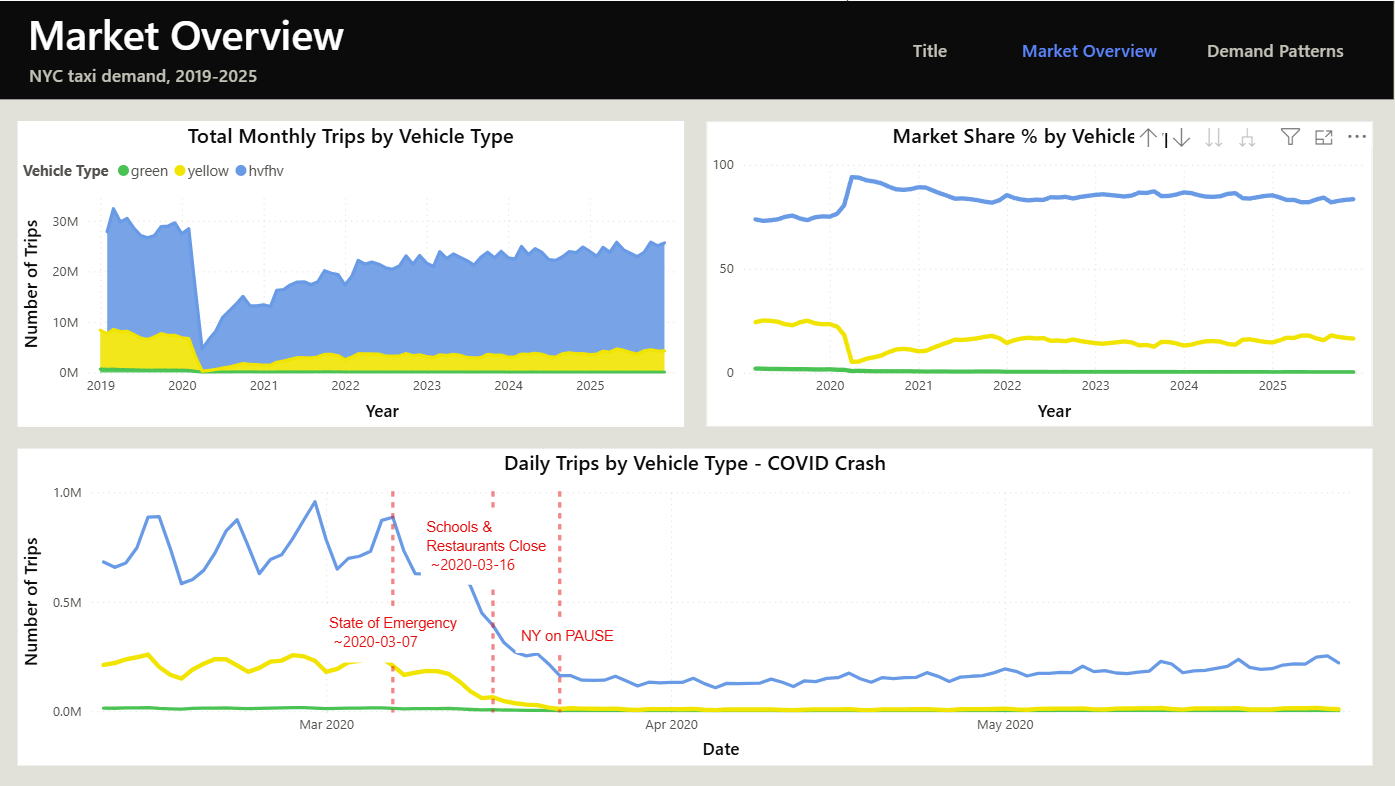

Layout of this report page (visuals, bound fields, positions):
{"tool":"powerbi","page":{"name":"Market Overview","canvas":[1280,720],"ordinal":1},"visuals":[{"type":"stackedAreaChart","title":"Total Monthly Trips by Vehicle Type","fields":{"Y":["Sum(hourly_demand.trip_count)"],"Series":["hourly_demand.vehicle_type"],"Category":["hourly_demand.MonthStart.Variation.Date Hierarchy.Year","hourly_demand.MonthStart.Variation.Date Hierarchy.Month"]},"box":[20,110,610,280],"z":0},{"type":"lineChart","title":"Market Share % by Vehicle Type","fields":{"Y":["hourly_demand.Market Share %"],"Series":["hourly_demand.vehicle_type"],"Category":["hourly_demand.MonthStart.Variation.Date Hierarchy.Year","hourly_demand.MonthStart.Variation.Date Hierarchy.Month"]},"box":[650,110,610,280],"z":1000},{"type":"lineChart","title":"Daily Trips by Vehicle Type - COVID Crash","fields":{"Series":["hourly_demand.vehicle_type"],"Y":["Sum(hourly_demand.trip_count)"],"Category":["hourly_demand.DayStart.Variation.Date Hierarchy.Year","hourly_demand.DayStart.Variation.Date Hierarchy.Month","hourly_demand.DayStart.Variation.Date Hierarchy.Day"]},"box":[20,410,1240,290],"z":2000},{"type":"shape","box":[0,0,1279.5,90],"z":3000},{"type":"textbox","box":[24,0,306.8,68.9],"z":4000},{"type":"textbox","box":[297.6,542.5,130.7,51.6],"z":5000},{"type":"textbox","box":[388.8,449.2,120.8,67],"z":6000},{"type":"textbox","box":[475.5,542.5,98.8,29.7],"z":7000},{"type":"textbox","box":[25,52,231.4,37.7],"z":8000},{"type":"pageNavigator","box":[780.8,24.2,465.7,40.6],"z":9000}]}

Visuals, with their boxes in screenshot pixels (x1, y1, x2, y2), scaled from the page's 1280x720 canvas onto the 1395x786 screenshot:
"Total Monthly Trips by Vehicle Type" stackedAreaChart: rect(22, 120, 687, 426)
"Market Share % by Vehicle Type" lineChart: rect(708, 120, 1373, 426)
"Daily Trips by Vehicle Type - COVID Crash" lineChart: rect(22, 448, 1373, 764)
shape: rect(0, 0, 1394, 98)
textbox: rect(26, 0, 361, 75)
textbox: rect(324, 592, 467, 649)
textbox: rect(424, 490, 555, 564)
textbox: rect(518, 592, 626, 625)
textbox: rect(27, 57, 279, 98)
pageNavigator: rect(851, 26, 1358, 71)
